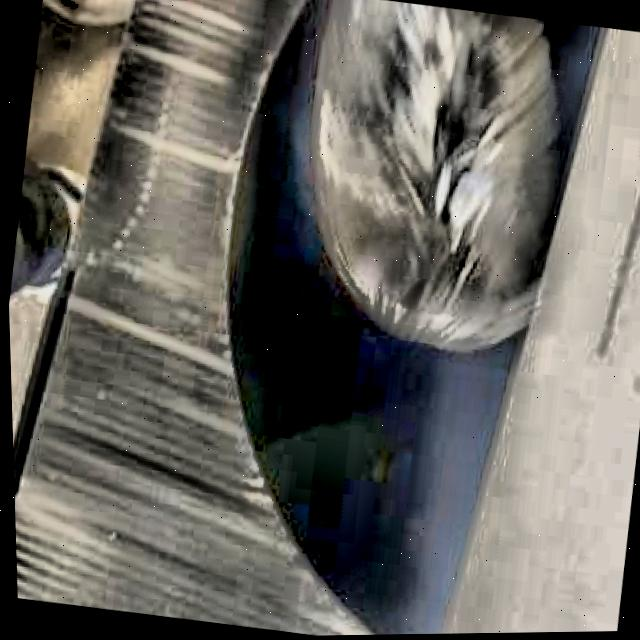metal: (312, 0, 554, 353)
